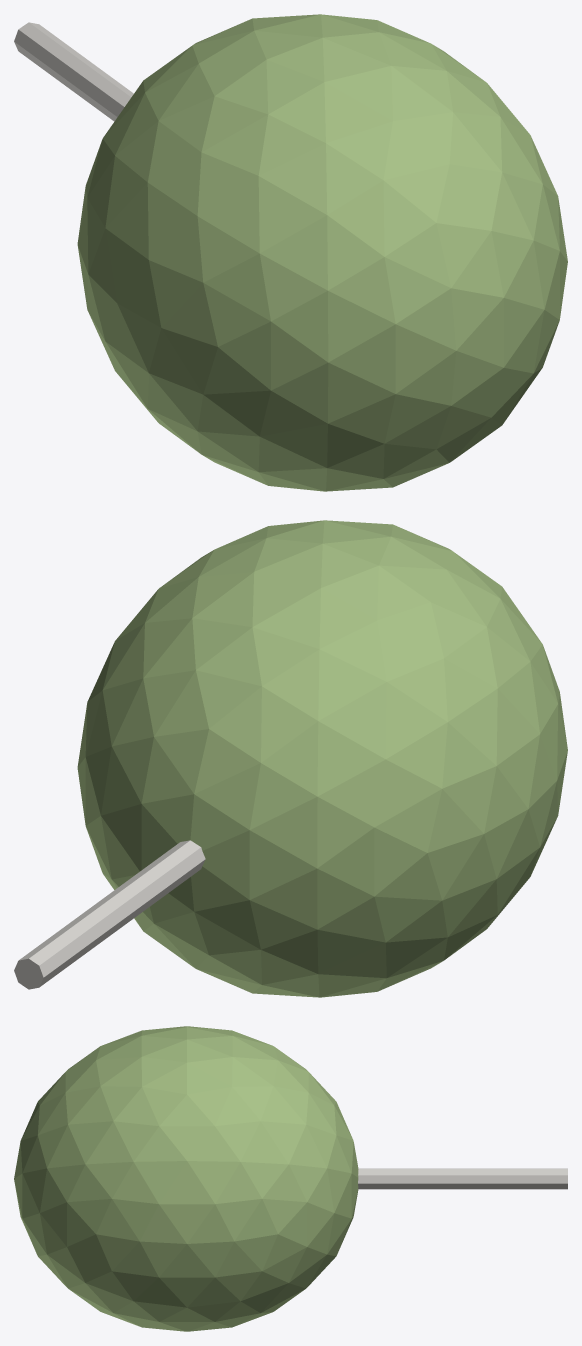
Rendered from curated_birch_tree.glb.
3 views of the same model, one above another, from view 1: azimuth 30°, elevation 25°; view 2: azimuth 150°, elevation 25°; view 3: azimuth 270°, elevation 25° (orthographic). The views are drawn at different scales.
Parts seen in each view (by area): view 1: geometry_0; view 2: geometry_0; view 3: geometry_0.
Part boxes in pixels (x1=…): geometry_0: x1=14, y1=14, x2=567, y2=491; geometry_0: x1=14, y1=520, x2=567, y2=997; geometry_0: x1=14, y1=1026, x2=567, y2=1331.
Bounding box in the file's own units: 5 × 5 × 9.
